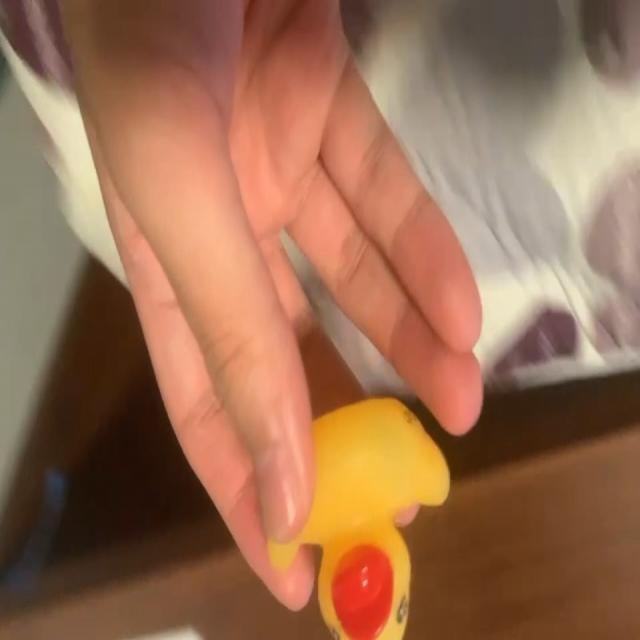rubber-duck: (268, 397, 448, 638)
